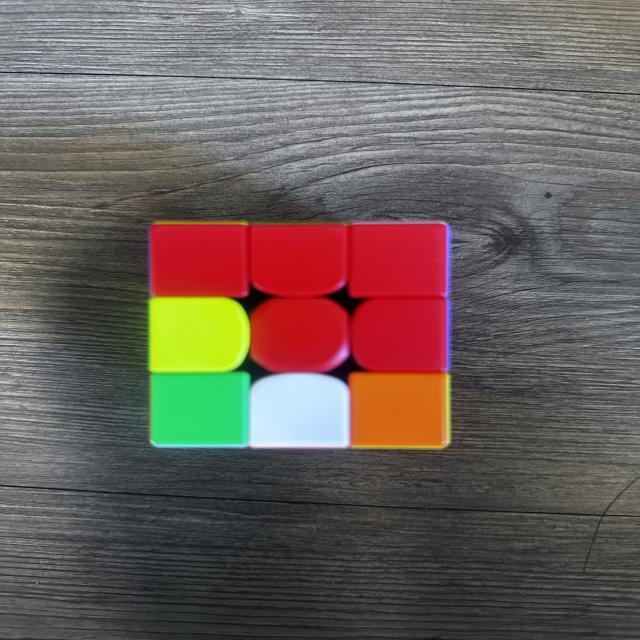sticker: (347, 222, 452, 301), (249, 373, 355, 450), (348, 372, 451, 451), (150, 222, 252, 300), (150, 297, 251, 375), (248, 223, 350, 300), (247, 298, 350, 374), (151, 372, 252, 449), (351, 298, 451, 374)
